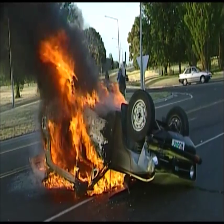fire_h: (40, 28, 106, 187), (86, 168, 126, 197), (42, 171, 74, 190)
fire_l: (112, 81, 127, 109), (39, 157, 51, 171), (100, 81, 109, 98)
